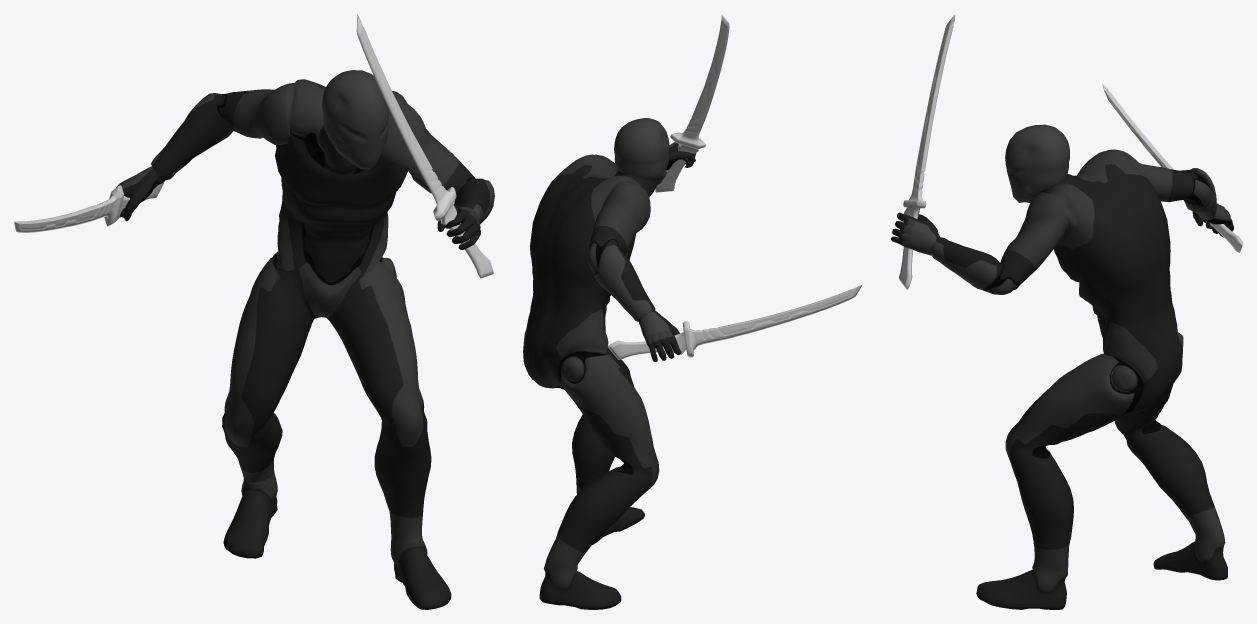
3 renders of one model, left to right at view 1: azimuth 30°, elevation 25°; view 2: azimuth 150°, elevation 25°; view 3: azimuth 270°, elevation 25°, orthographic. The views are drawn at different scales.
Visible parts, largest first — view 1: Cyborg_Ninja_Killer, Sword_l, Sword_l001; view 2: Cyborg_Ninja_Killer, Sword_l001, Sword_l; view 3: Cyborg_Ninja_Killer, Sword_l, Sword_l001.
Part boxes in pixels (left/top/right/bottom): Cyborg_Ninja_Killer: left=116, top=70, right=494, bottom=609; Sword_l: left=356, top=14, right=493, bottom=278; Sword_l001: left=14, top=181, right=164, bottom=232; Cyborg_Ninja_Killer: left=523, top=118, right=696, bottom=609; Sword_l001: left=607, top=284, right=862, bottom=359; Sword_l: left=655, top=14, right=729, bottom=192; Cyborg_Ninja_Killer: left=891, top=124, right=1233, bottom=609; Sword_l: left=899, top=14, right=955, bottom=289; Sword_l001: left=1102, top=84, right=1242, bottom=252.
Size of the model in its own units: 132 by 192 by 112.
